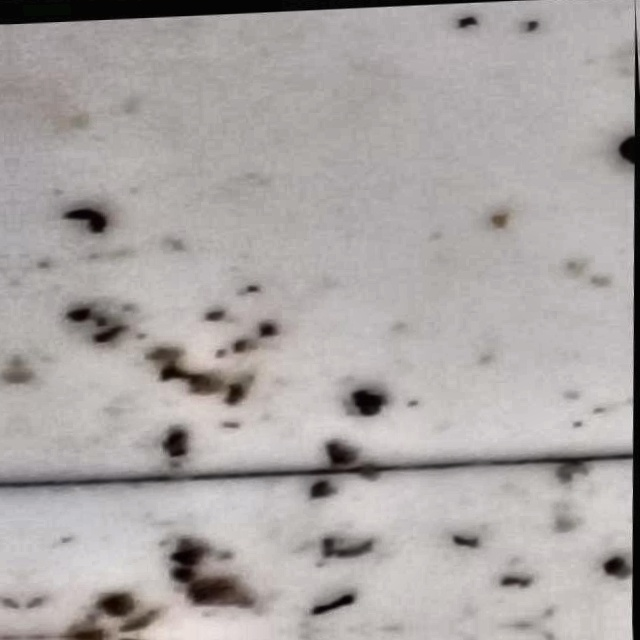varroa: (611, 133, 635, 173)
